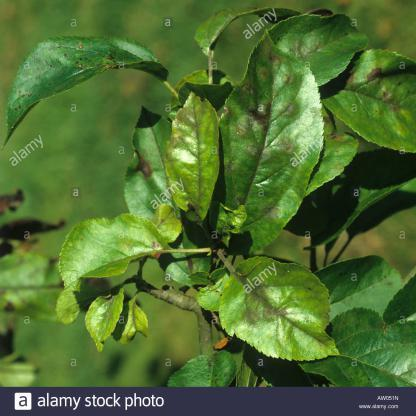Apple Scab Leaf: (219, 30, 323, 264), (218, 246, 342, 380), (53, 200, 216, 279), (250, 2, 368, 101), (328, 42, 416, 162), (165, 95, 235, 238)
